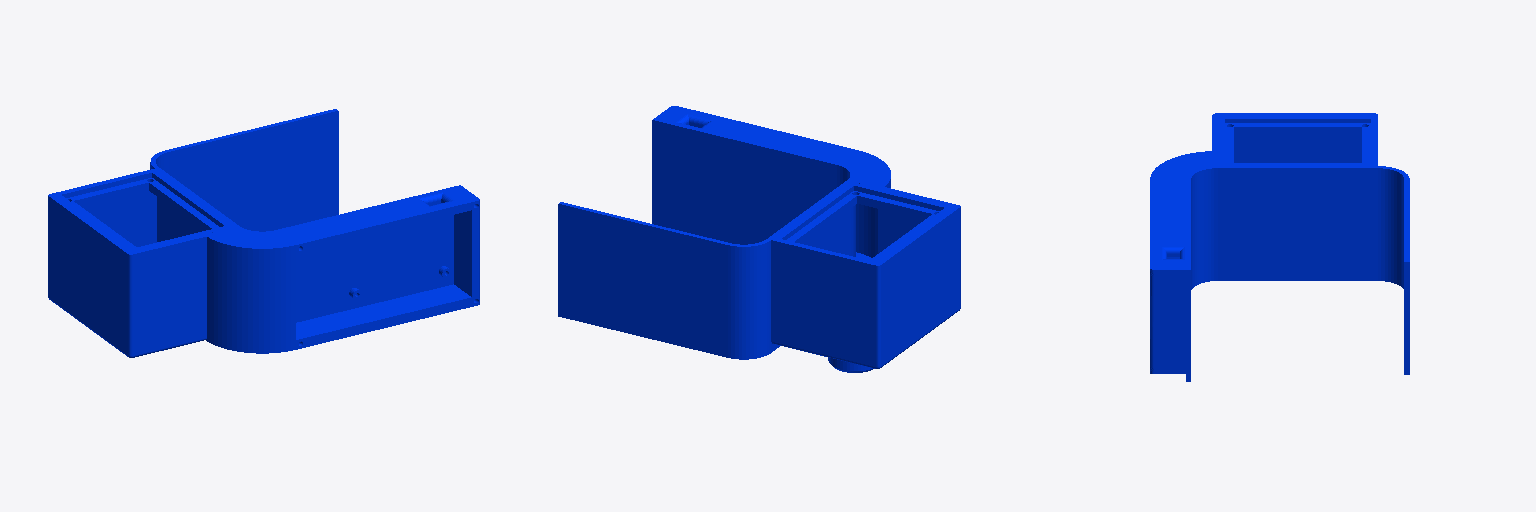
3 views of the same model, side by side, from view 1: azimuth 30°, elevation 25°; view 2: azimuth 150°, elevation 25°; view 3: azimuth 270°, elevation 25° (orthographic).
Visible parts, largest first — view 1: LightCOM-v1.3; view 2: LightCOM-v1.3; view 3: LightCOM-v1.3.
Part boxes in pixels (x1,y1,x2,y2): LightCOM-v1.3: (48, 109, 479, 357); LightCOM-v1.3: (558, 106, 960, 372); LightCOM-v1.3: (1150, 113, 1409, 381).
Bounding box in the file's own units: 208 × 80 × 146.